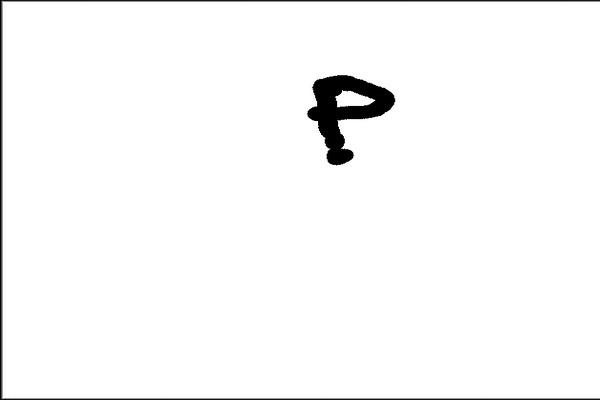P: (301, 67, 401, 178)
